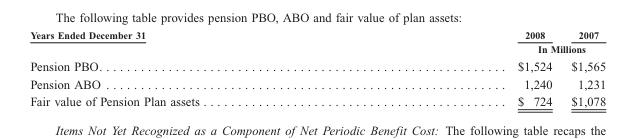table: (29, 29, 605, 107)
table column: (29, 29, 357, 107), (357, 29, 561, 107), (561, 29, 605, 107)
table column header: (29, 29, 605, 56)
table row: (29, 56, 605, 74), (29, 74, 605, 92), (29, 41, 605, 56), (29, 92, 605, 107), (29, 29, 605, 41)
table spanning cell: (29, 29, 357, 56), (357, 41, 605, 56)
